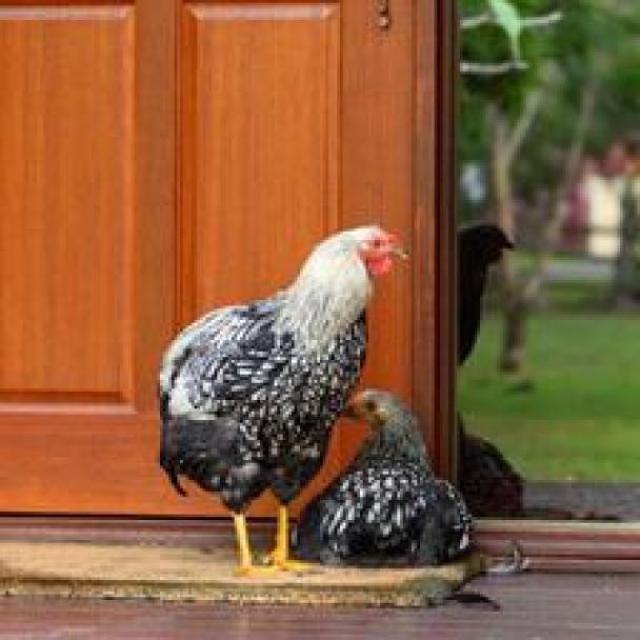Chicken: (150, 218, 403, 588)
